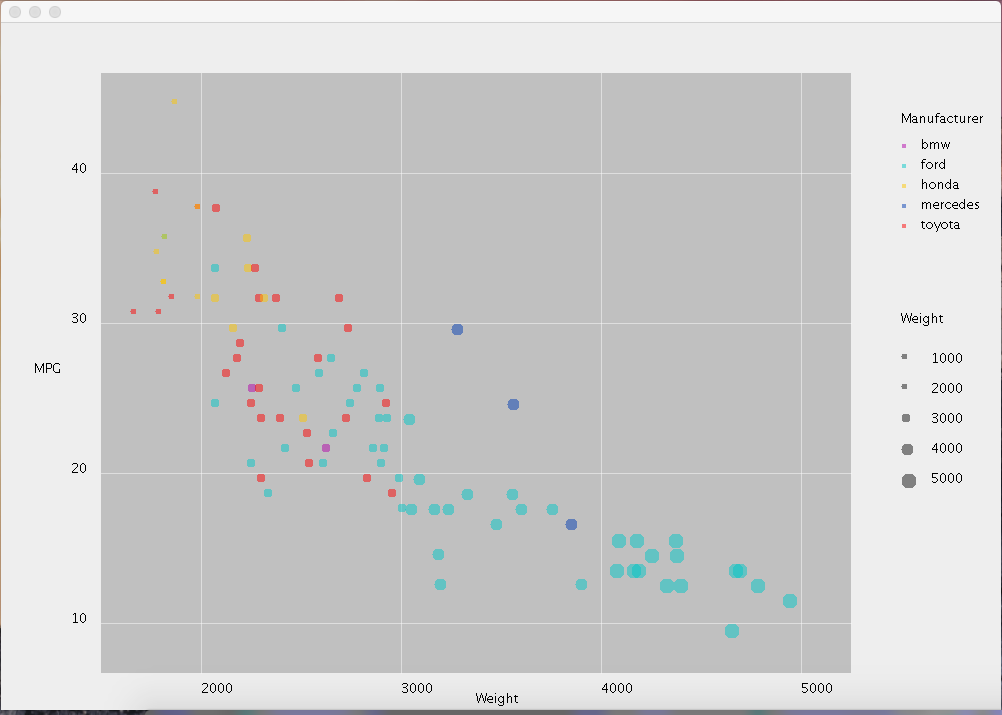

What the dashboard file says about the page in this screenshot:
{"tool":"tableau","page":{"name":"Dashboard 1","canvas":[1000,800],"ordinal":0},"visuals":[{"type":"worksheet","title":"Sheet 1","mark":"Circle","rows":["MPG"],"cols":["Weight"],"box":[0,0,840,800]},{"type":"legend","title":"Sheet 1","param":"[textscan.14h8h6g1ua10101g5851s1sy8clt].[none:Manufacturer:nk]","box":[840,0,160,134]},{"type":"legend","title":"Sheet 1","param":"[textscan.14h8h6g1ua10101g5851s1sy8clt].[none:Weight:qk]","box":[840,134,160,110]}]}

Visuals, with their boxes in screenshot pixels (x1, y1, x2, y2):
"Sheet 1" worksheet (Circle marks): {"left": 107, "top": 0, "right": 847, "bottom": 705}
"Sheet 1" legend: {"left": 847, "top": 0, "right": 988, "bottom": 118}
"Sheet 1" legend: {"left": 847, "top": 118, "right": 988, "bottom": 215}
